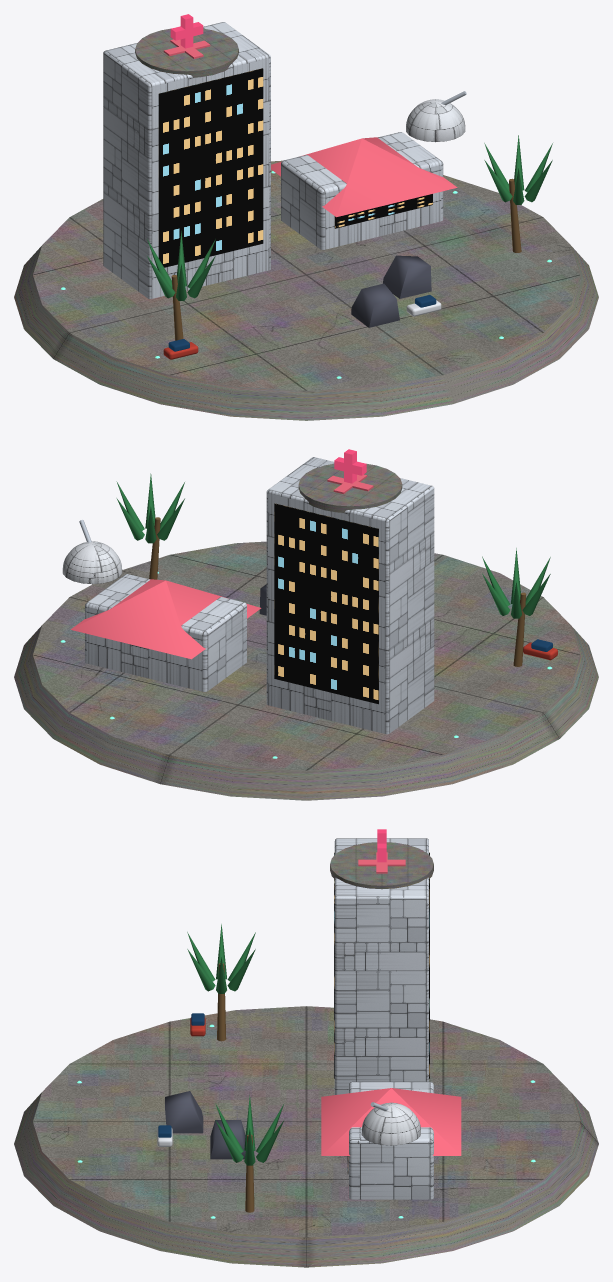
File: welfare-T3.glb
3 views of the same model, one above another, from view 1: azimuth 30°, elevation 25°; view 2: azimuth 150°, elevation 25°; view 3: azimuth 270°, elevation 25° (orthographic).
Visible parts, largest first — view 1: object 1, object 11, object 12, object 19, object 20, object 16, grass, object 22, object 21; view 2: object 1, object 11, object 13, object 19, object 20, object 16, object 22, object 25, anim:car; view 3: object 1, object 11, object 19, object 20, object 16, grass, object 22.
Part boxes in pixels (x1,y1,x2,y2): object 1: (14,160,598,420); object 11: (103,22,270,298); object 12: (158,68,263,267); object 19: (281,132,443,249); object 20: (271,137,457,217); object 16: (135,28,238,77); grass: (351,255,431,327); object 22: (406,99,465,142); object 21: (334,194,432,228); object 1: (14,541,598,800); object 11: (266,457,434,734); object 13: (274,503,378,704); object 19: (85,574,246,691); object 20: (70,579,261,659); object 16: (298,464,402,512); object 22: (62,541,122,584); object 25: (513,592,526,666); anim:car: (523,639,557,660); object 1: (14,1006,598,1267); object 11: (334,838,428,1094); object 19: (349,1081,433,1199); object 20: (321,1088,461,1155); object 16: (330,842,433,889); grass: (165,1091,245,1159); object 22: (361,1102,420,1145).
Size of the model in its own units: 6.2 by 3.51 by 6.2.
28 materials, 6 textured.
